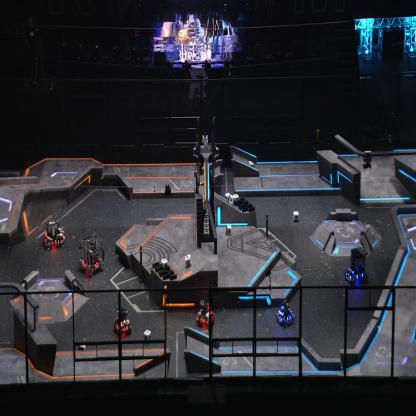car: (76, 235, 104, 275), (342, 244, 370, 284), (43, 219, 65, 249), (275, 297, 296, 327), (195, 299, 215, 328), (113, 307, 131, 338)
